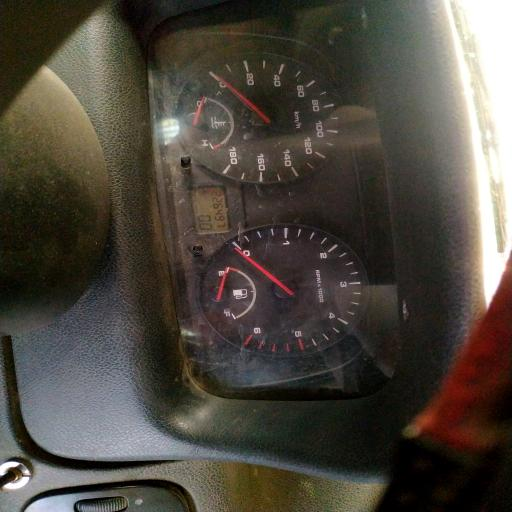tachometer: (201, 222, 371, 357)
